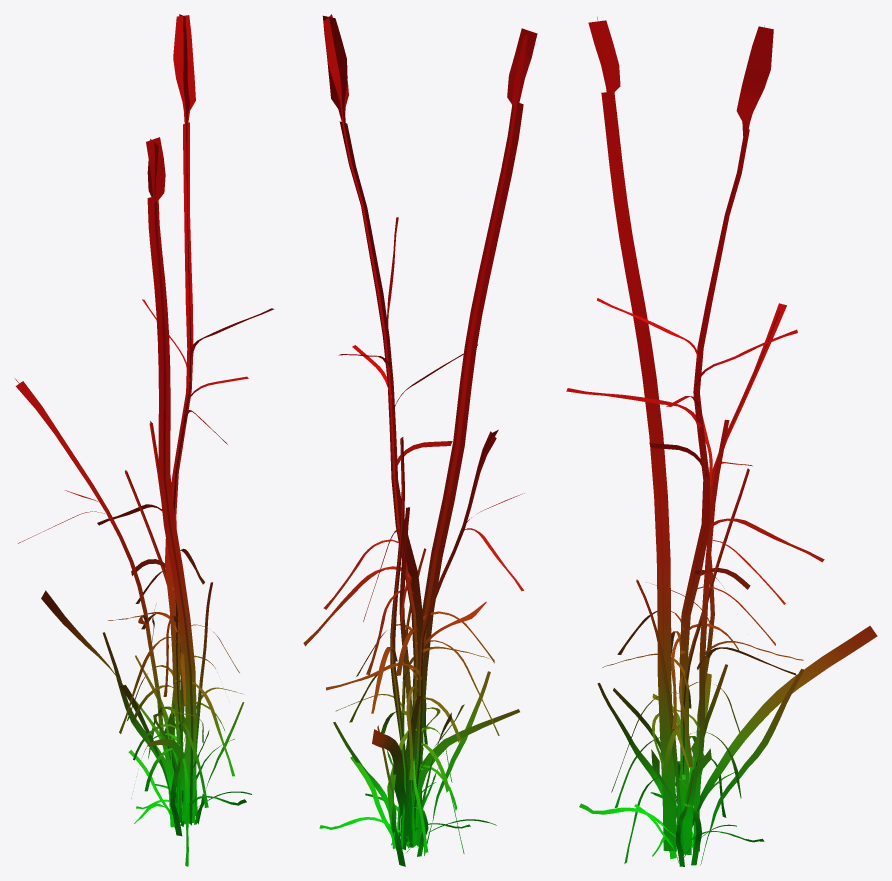
File: tcfoejcr_Var4_LOD0.fbx
3 renders of one model, left to right at view 1: azimuth 30°, elevation 25°; view 2: azimuth 150°, elevation 25°; view 3: azimuth 270°, elevation 25°, orthographic. The views are drawn at different scales.
Parts seen in each view (by area): view 1: _a375_Var4_LOD0; view 2: _a375_Var4_LOD0; view 3: _a375_Var4_LOD0.
Part boxes in pixels (left/top/right/bottom): _a375_Var4_LOD0: left=15, top=14, right=274, bottom=866; _a375_Var4_LOD0: left=303, top=14, right=537, bottom=866; _a375_Var4_LOD0: left=566, top=17, right=877, bottom=866.
Size of the model in its own units: 29.41 by 111 by 36.1.
